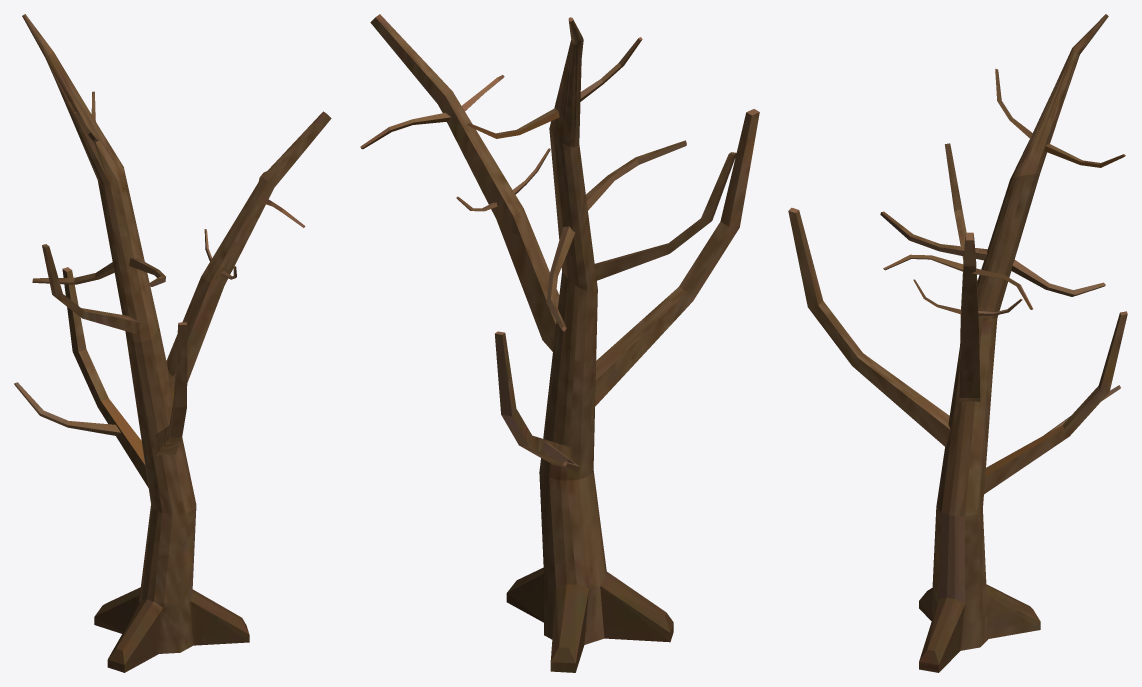
Rendered from tree_11.glb.
The picture shows the model from 3 angles, left to right: view 1: azimuth 30°, elevation 25°; view 2: azimuth 150°, elevation 25°; view 3: azimuth 270°, elevation 25°; orthographic projection. The views are drawn at different scales.
Parts seen in each view (by area): view 1: _11_tree__11_tree_0; view 2: _11_tree__11_tree_0; view 3: _11_tree__11_tree_0.
Part boxes in pixels (<box>): _11_tree__11_tree_0: <box>14,14,331,672</box>; _11_tree__11_tree_0: <box>360,14,759,672</box>; _11_tree__11_tree_0: <box>788,14,1127,672</box>.
Bounding box in the file's own units: 5.79 × 11 × 5.72.
Materials: 1 (1 with a texture image).
